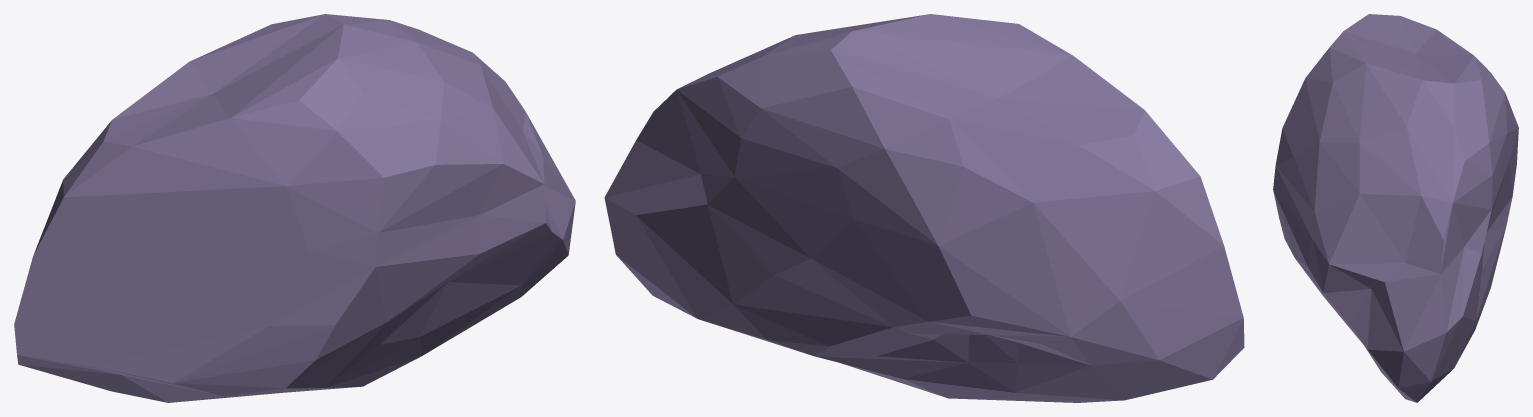
The model's file is Stoun2.fbx.
The picture shows the model from 3 angles, left to right: view 1: azimuth 30°, elevation 25°; view 2: azimuth 150°, elevation 25°; view 3: azimuth 270°, elevation 25°; orthographic projection. The views are drawn at different scales.
Parts seen in each view (by area): view 1: Stoun2; view 2: Stoun2; view 3: Stoun2.
Boxes of the visible parts, x1,y1,x2,y2 form: Stoun2: (14,14,575,402); Stoun2: (604,14,1244,402); Stoun2: (1273,14,1518,402).
Size of the model in its own units: 84.97 by 48.64 by 38.5.
